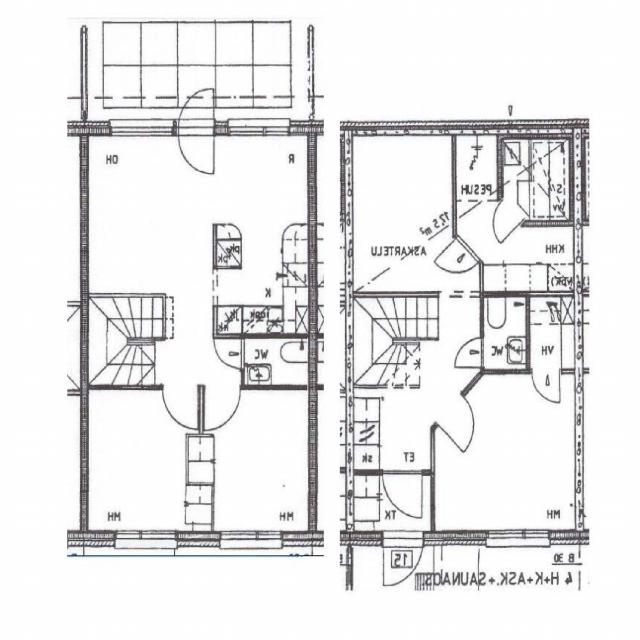door: (436, 394, 487, 454), (435, 235, 481, 289), (384, 530, 422, 590), (383, 469, 422, 519), (484, 200, 523, 247), (180, 81, 213, 136), (180, 121, 213, 175), (205, 385, 239, 430), (164, 385, 198, 430), (354, 565, 383, 606), (532, 368, 560, 405), (455, 337, 485, 367), (217, 339, 246, 368)
